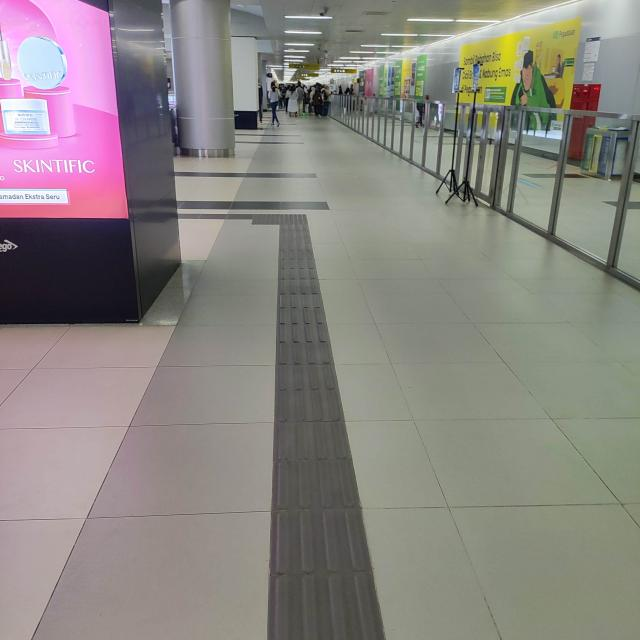kiri: (215, 199, 318, 241)
